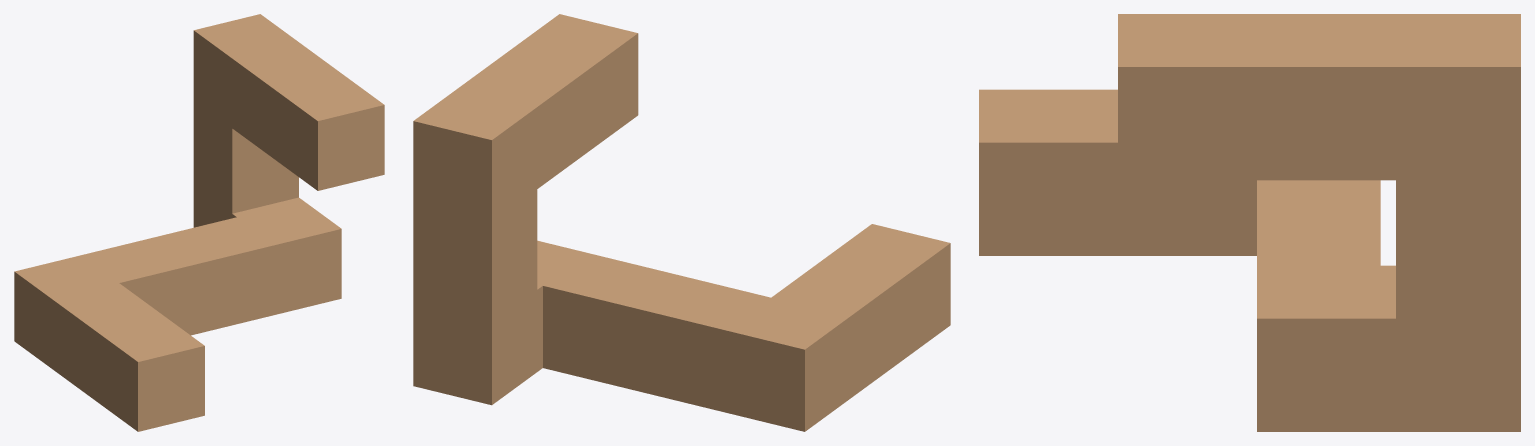
The model's file is Piece_05.fbx.
3 views of the same model, side by side, from view 1: azimuth 30°, elevation 25°; view 2: azimuth 150°, elevation 25°; view 3: azimuth 270°, elevation 25° (orthographic). The views are drawn at different scales.
Visible parts, largest first — view 1: Piece_05; view 2: Piece_05; view 3: Piece_05.
Part boxes in pixels (bbox=[...]): Piece_05: bbox=[14, 14, 384, 431]; Piece_05: bbox=[413, 14, 950, 431]; Piece_05: bbox=[979, 14, 1520, 431].
Size of the model in its own units: 780 by 580 by 780.
